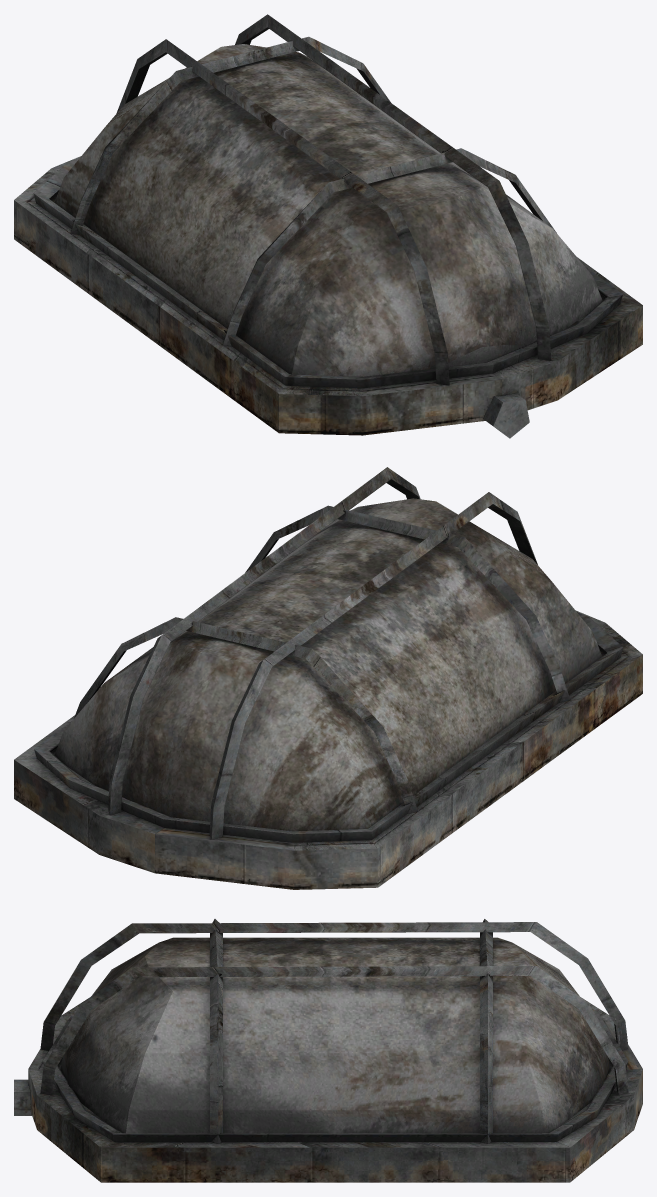
The model's file is Basement_Lamp.fbx.
The picture shows the model from 3 angles, top to bottom: view 1: azimuth 30°, elevation 25°; view 2: azimuth 150°, elevation 25°; view 3: azimuth 270°, elevation 25°; orthographic projection. The views are drawn at different scales.
Visible parts, largest first — view 1: Cube_014; view 2: Cube_014; view 3: Cube_014.
Boxes of the visible parts, box(x1,y1,x2,y2) form: Cube_014: box(14, 14, 642, 438); Cube_014: box(14, 467, 642, 889); Cube_014: box(14, 919, 642, 1182).
Size of the model in its own units: 1 by 0.5134 by 1.69.
